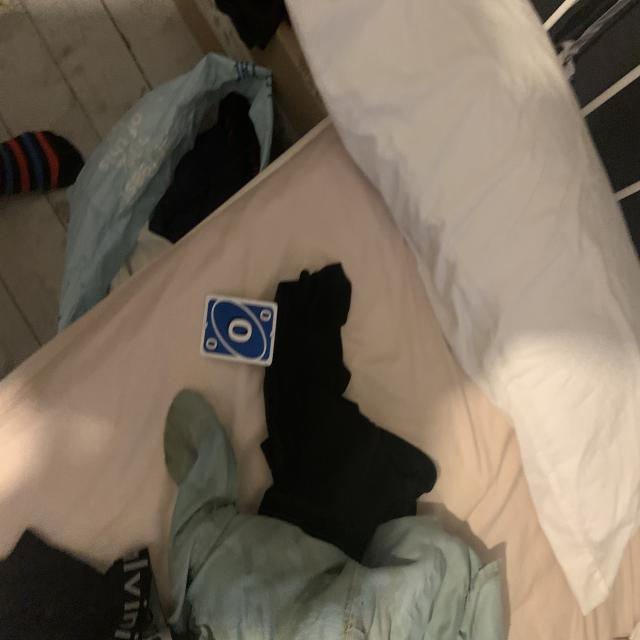lblue-0: (254, 304, 275, 325)
